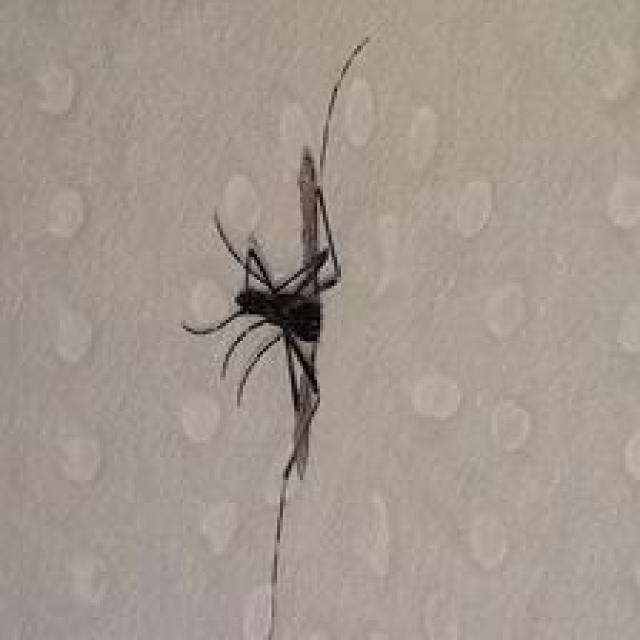Aedes albopictus: (177, 34, 374, 640)
